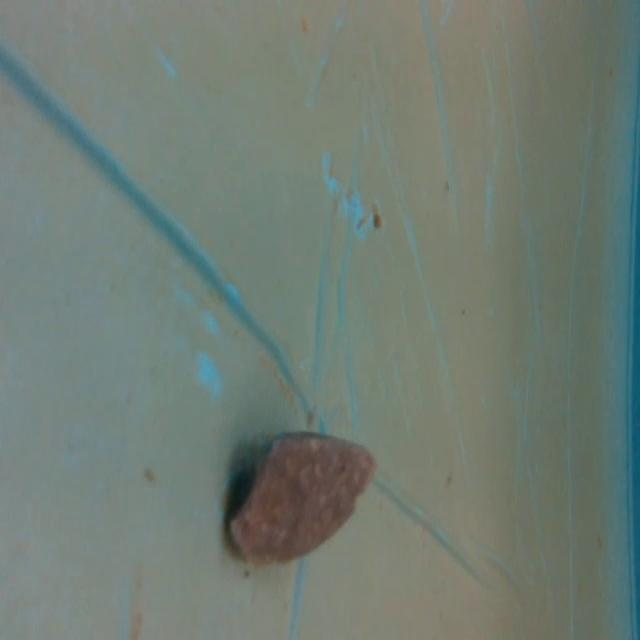rock: (222, 424, 386, 580)
